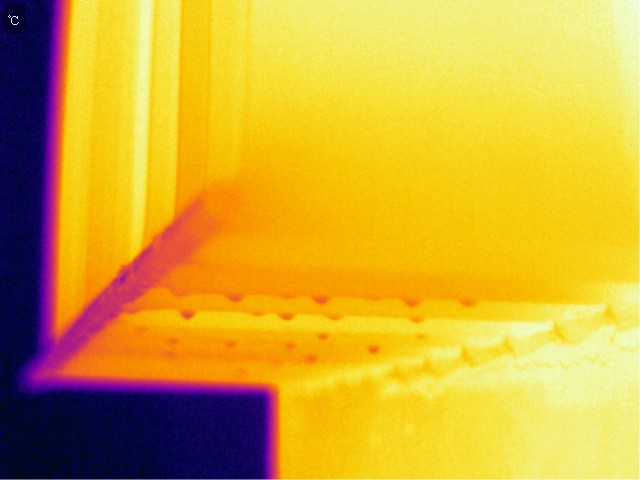Oil: (453, 295, 483, 312), (277, 303, 300, 325), (390, 295, 424, 309), (400, 313, 432, 326), (311, 330, 338, 345), (222, 290, 247, 306), (176, 308, 201, 323), (276, 340, 302, 354), (361, 342, 385, 357), (307, 294, 333, 307), (223, 337, 244, 349), (411, 332, 429, 342), (169, 335, 182, 344)
